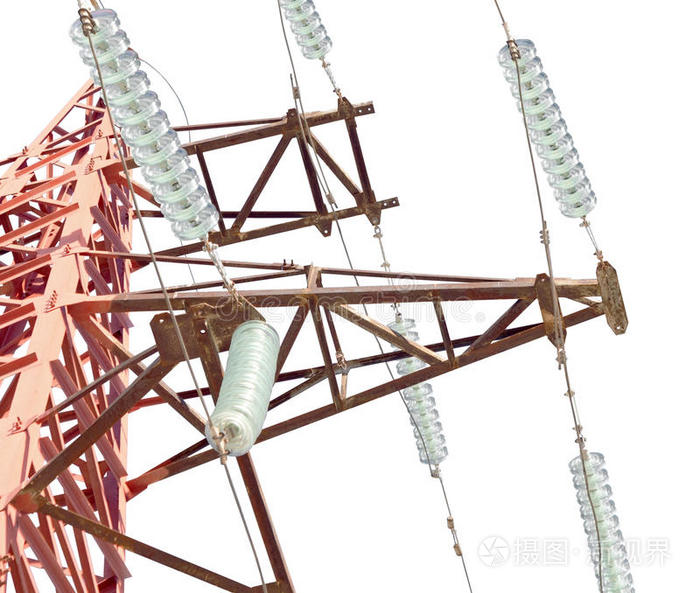insulator: (67, 8, 219, 241), (498, 36, 598, 219), (206, 317, 279, 457), (383, 314, 448, 465), (571, 448, 636, 593), (281, 1, 336, 60)
